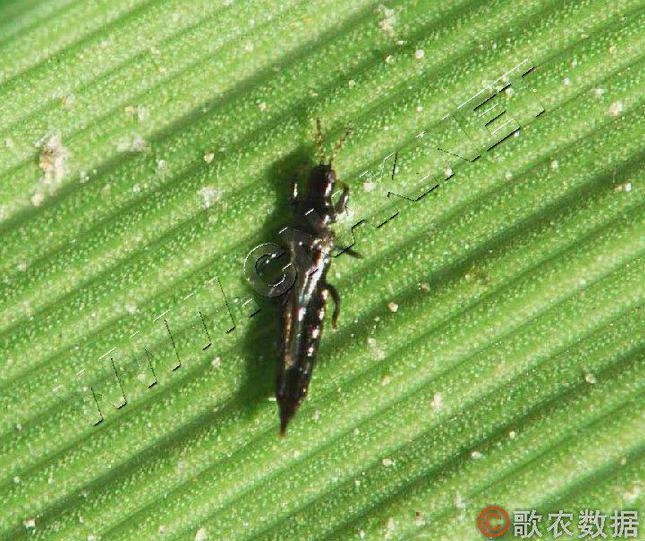pest: (277, 162, 339, 432)
